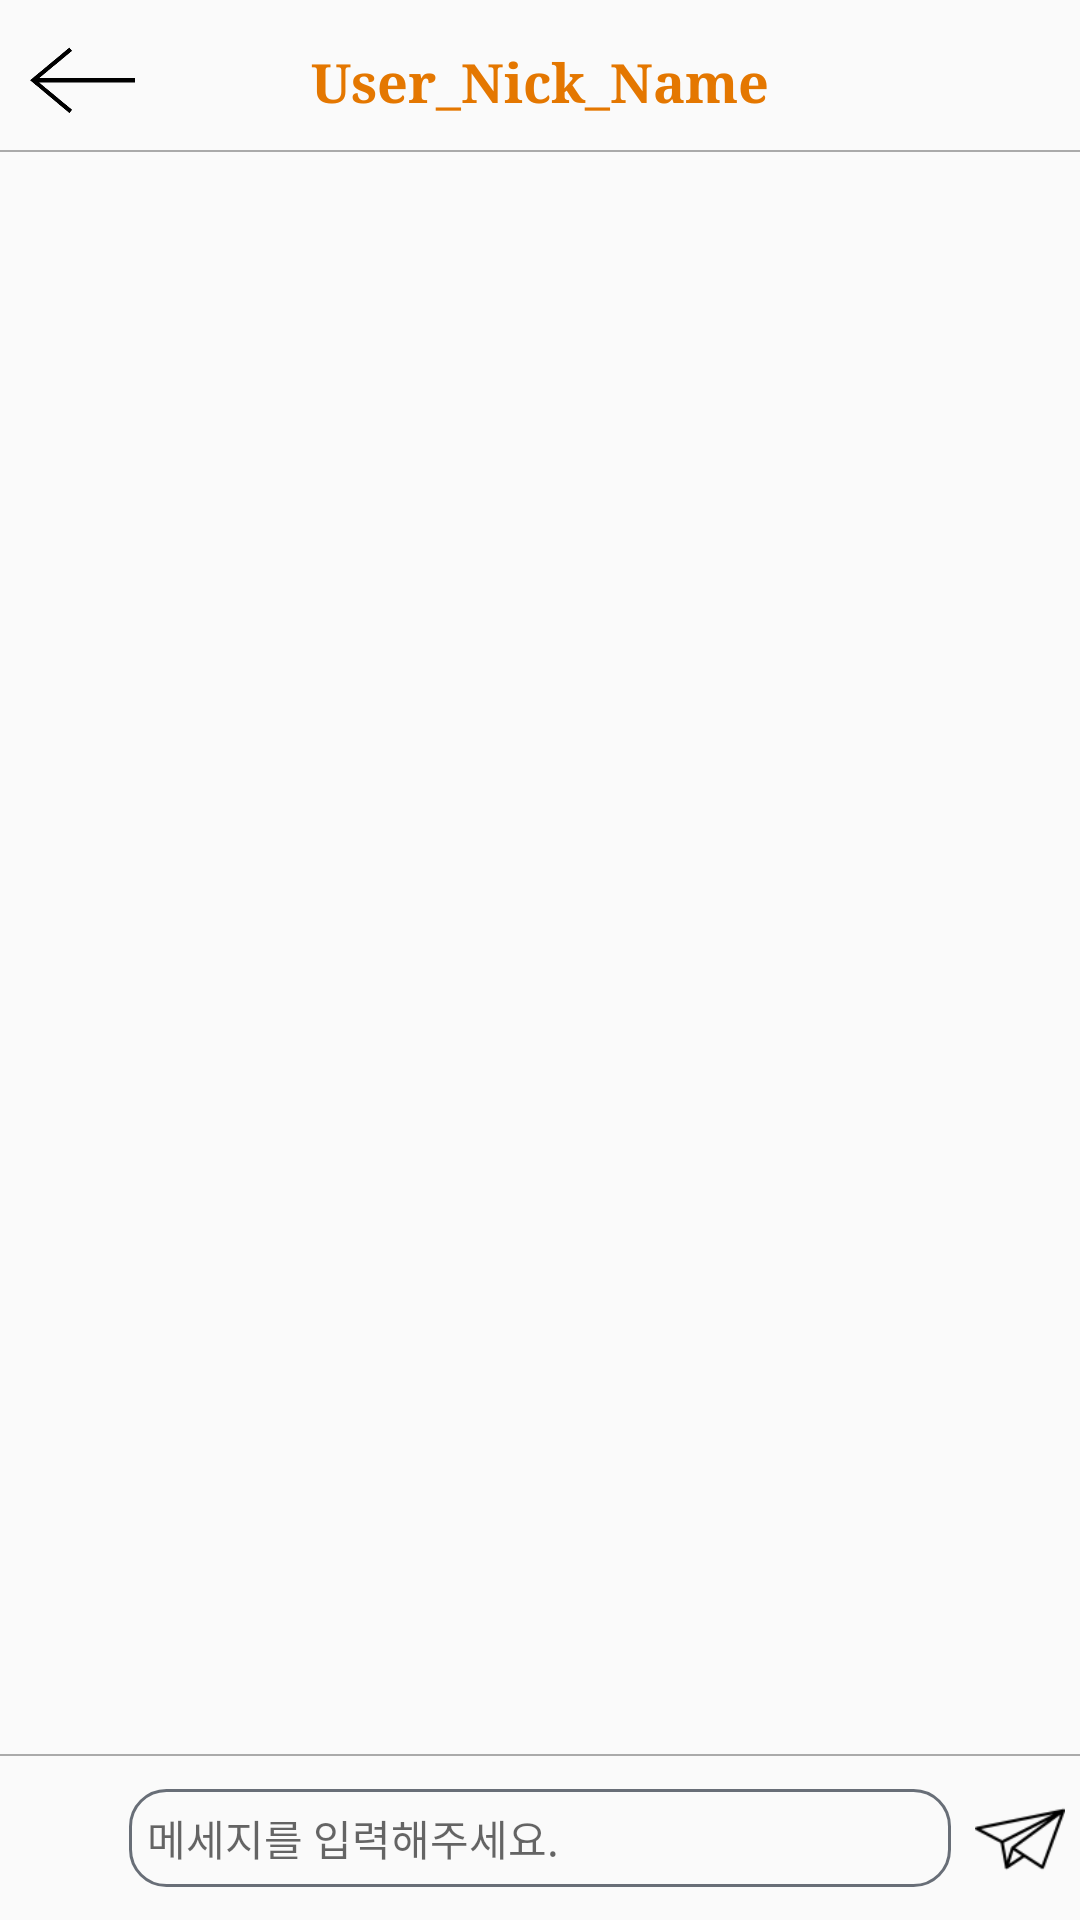

Named icons in this screenshot (1080*1920) and their centers, [x,y]:
back: [82,80]
paper plane: [1020,1839]
